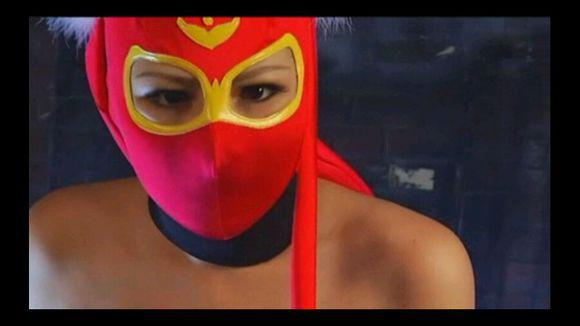OK: (121, 46, 300, 225)
